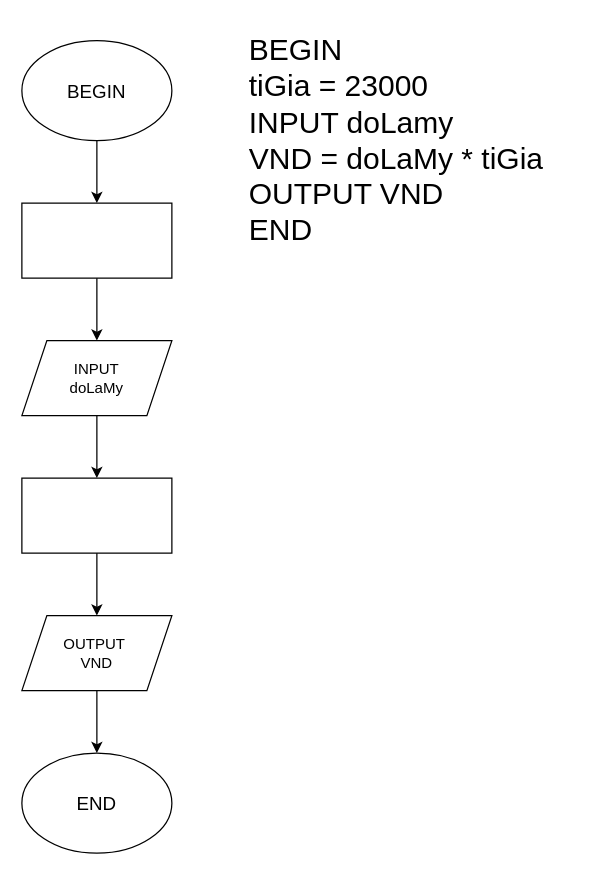
Some shapes in this 594 by 875 pixel diagram are drawn without their labels. Each missing label, with the box of its shape:
tiGia = 23000: (21, 202, 172, 278)
VND = doLaMy * tiGia: (21, 477, 172, 553)
